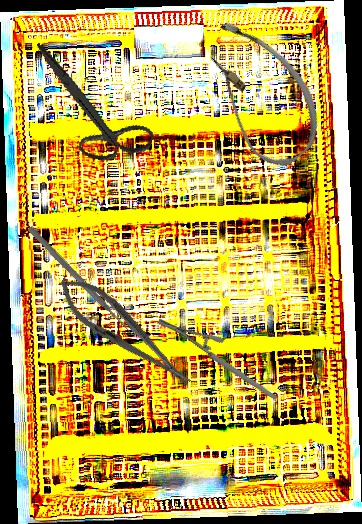Cannula: (176, 7, 341, 179)
Iris Scissors: (10, 42, 170, 174)
Needle Holder: (48, 265, 201, 400), (156, 291, 277, 428)
Pusher: (26, 225, 136, 338)
